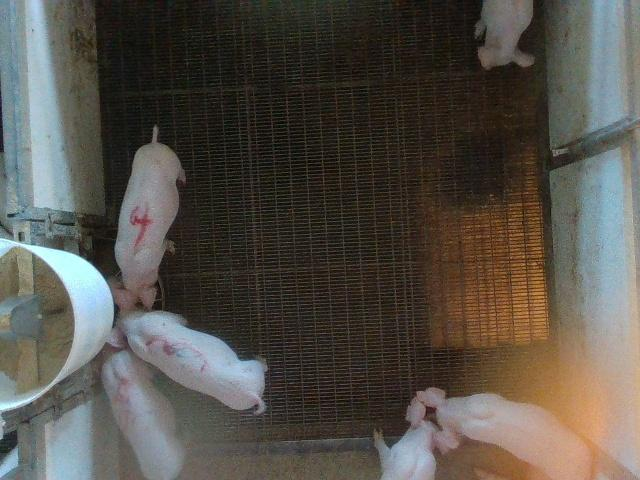pig-3: (108, 288, 268, 413)
pig-4: (115, 130, 185, 297)
pig-5: (101, 350, 185, 478)
